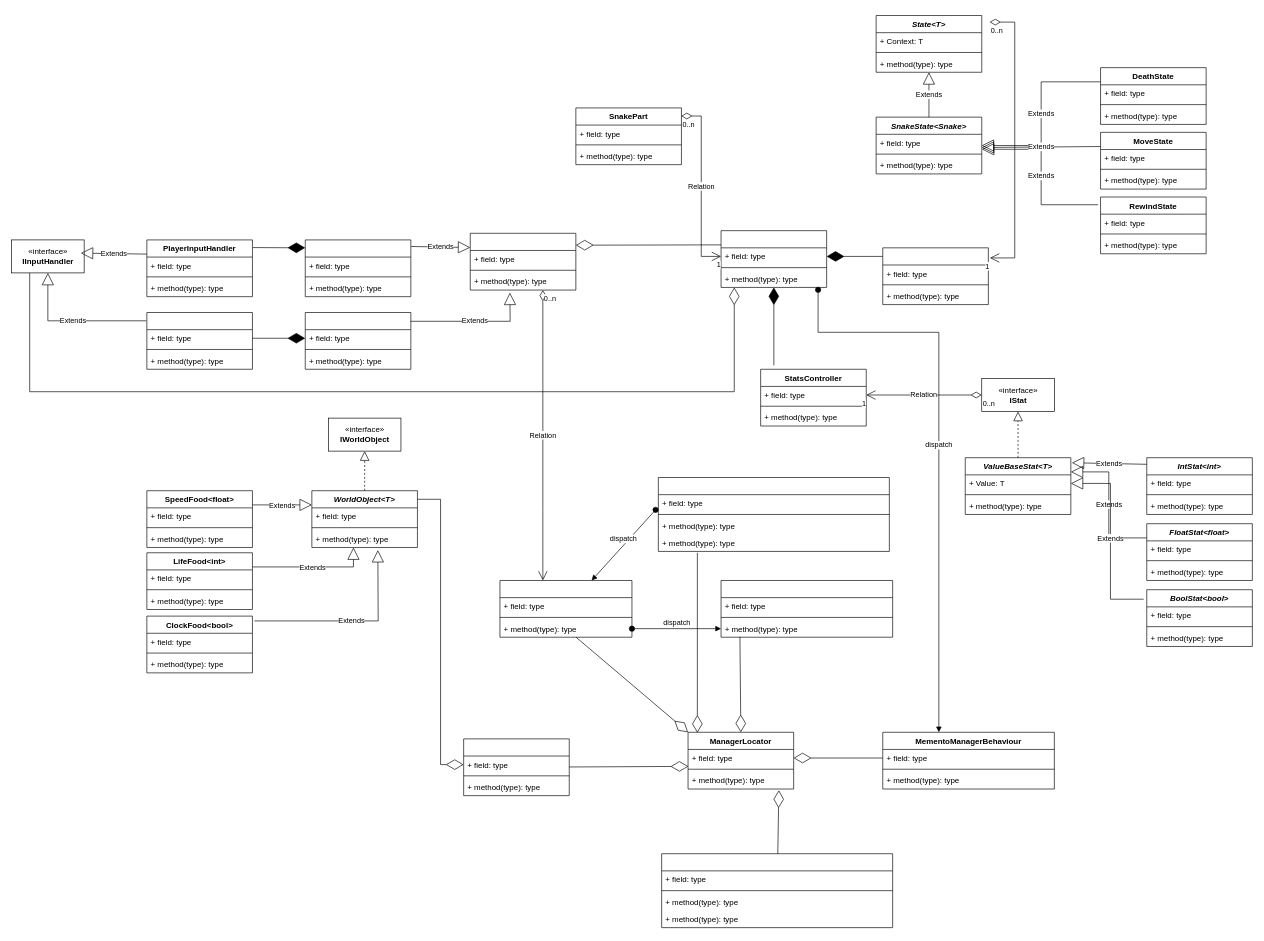
This 1264x941 diagram has some shape labels left out. Each missing label, with the box of its shape:
ControllablePlayer: (305, 239, 411, 297)
EndGameManagerBehaviour: (720, 580, 893, 637)
FoodSpawnerManager: (463, 738, 569, 796)
IABrain: (146, 312, 252, 369)
IngameManagerBehaviour: (499, 580, 632, 637)
InitializeManagerBehaviour: (658, 477, 889, 551)
NPCPlayer: (305, 312, 411, 369)
Player: (470, 233, 576, 290)
PoolManagerBehaviour: (661, 853, 893, 928)
Snake: (720, 230, 827, 287)
StateMachineController: (882, 247, 988, 305)
